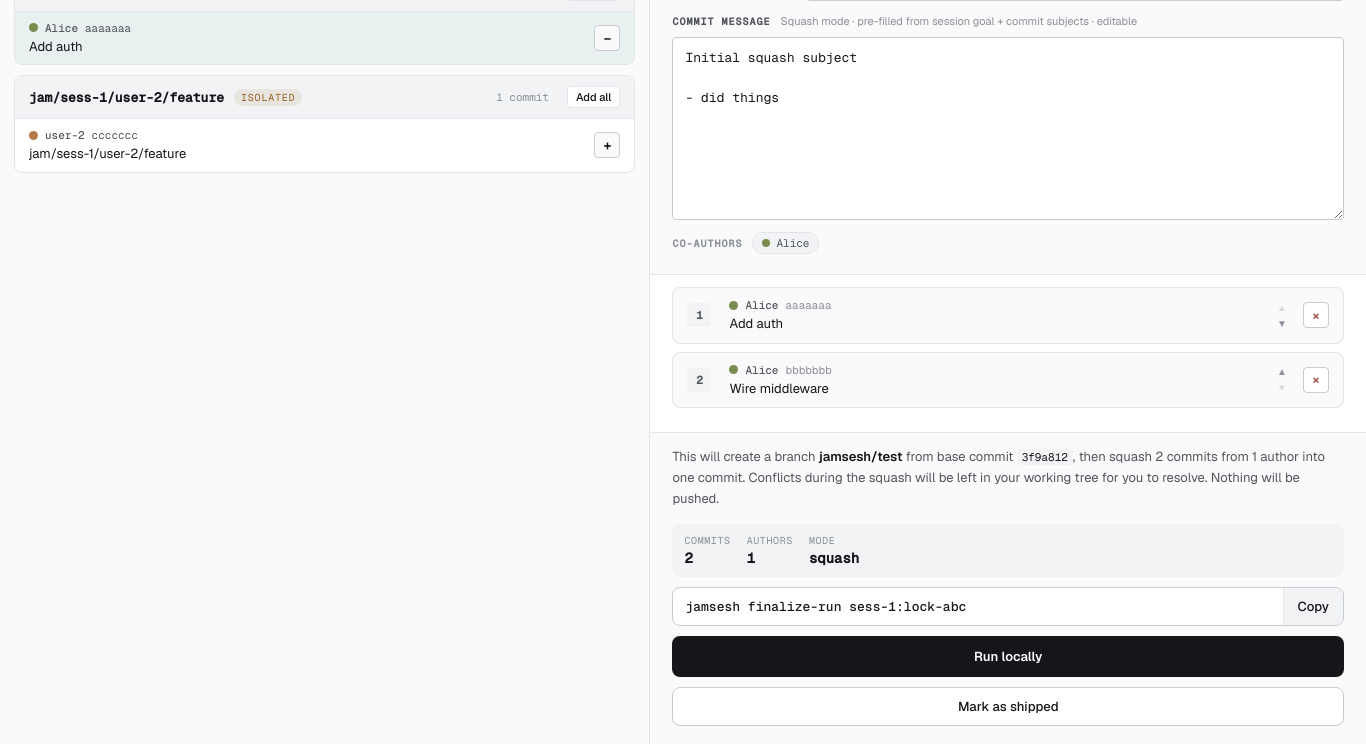
Test: FinalizeView › 11. "Mark as shipped" → POST mark-shipped; on 200, sessionEnded true
(page scrolled)
Click the button "Mark as shipped".
click(1008, 706)  # box left=672, top=687, right=1344, bottom=726
(page scrolled)
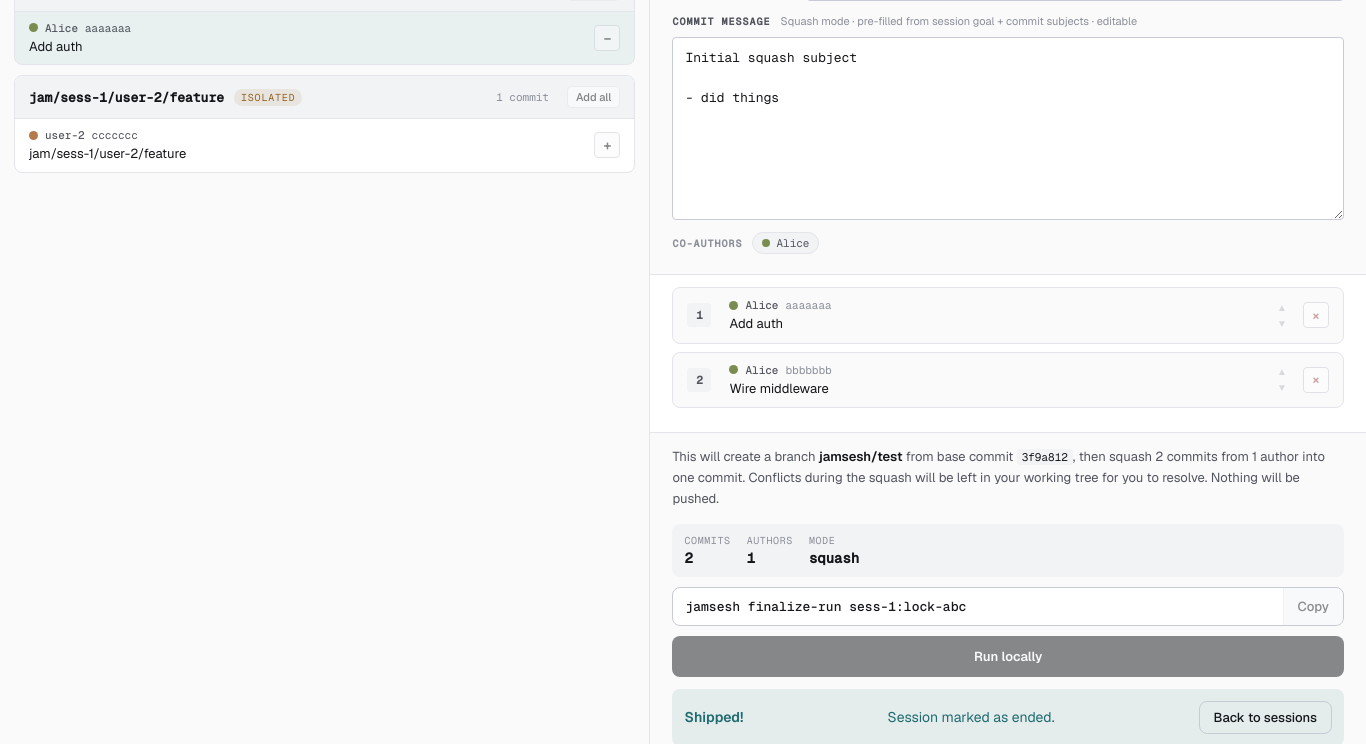
Now the text "Shipped!" is shown, box left=684, top=707, right=744, bottom=728
